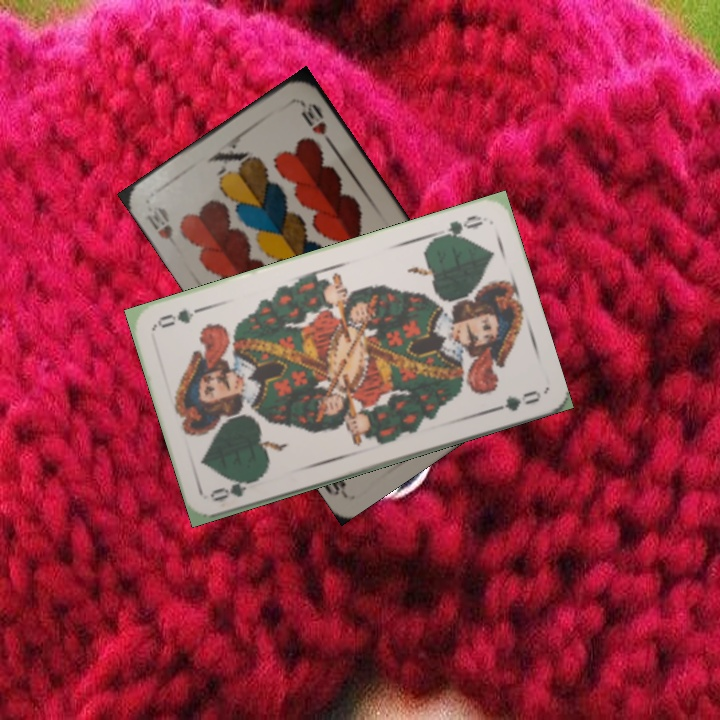GO: (207, 472, 264, 504), (429, 211, 486, 241)
H10: (142, 202, 180, 250)
